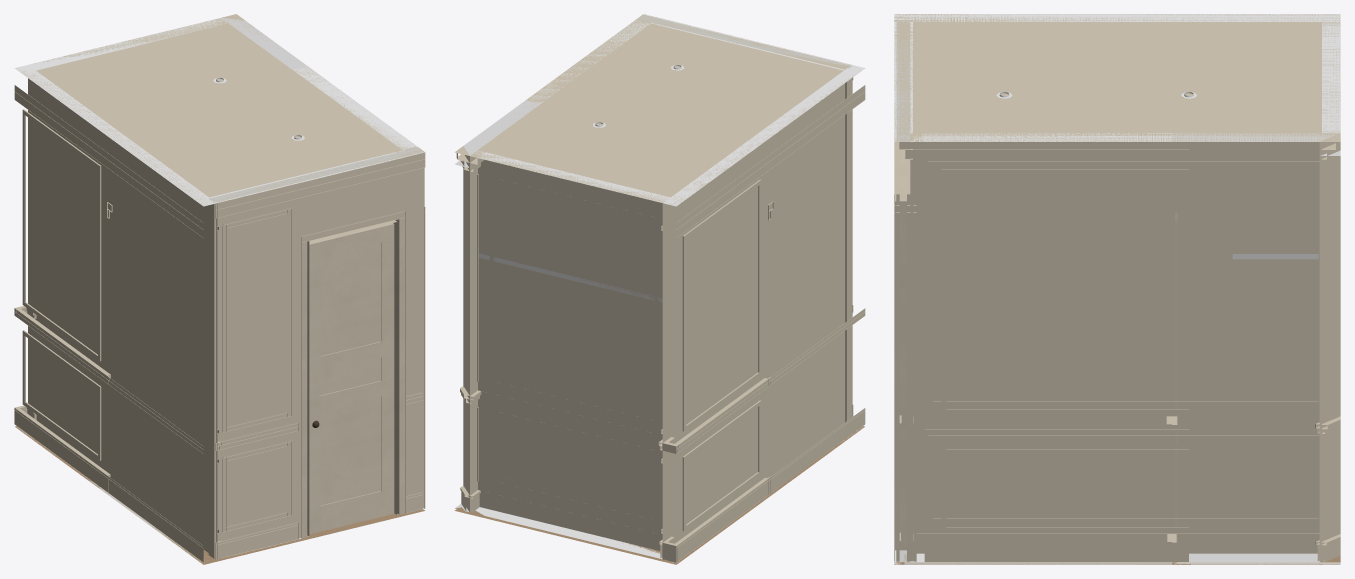
The model's file is loli-closet-9c163ea7b49b.glb.
3 renders of one model, left to right at view 1: azimuth 30°, elevation 25°; view 2: azimuth 150°, elevation 25°; view 3: azimuth 270°, elevation 25°, orthographic. The views are drawn at different scales.
Parts seen in each view (by area): view 1: loli-closet-6a1144f4e43410bb, loli-closet-0e637d2be41161fb, loli-closet-2575515a05775d9e, loli-closet-5b37b110dc0e2cdc, loli-closet-d6b1bc8c737b28e2, loli-closet-e1ae12ec9cba52a2, loli-closet-609bc1027670cc96, loli-closet-2c29ddcb8551cb02, loli-closet-e54d813e60c9e7c4, loli-closet-8c325fd3303e2546, loli-closet-cff4566edbc5d5ad, loli-closet-9d632b693d1b5808 (+16 smaller); view 2: loli-closet-e1ae12ec9cba52a2, loli-closet-6a1144f4e43410bb, loli-closet-2575515a05775d9e, loli-closet-0e637d2be41161fb, loli-closet-23704d6ebb398f63, loli-closet-1c7325212038a6e7, loli-closet-2c29ddcb8551cb02, loli-closet-2b5f31416122ed8c, loli-closet-e54d813e60c9e7c4, loli-closet-cff4566edbc5d5ad, loli-closet-93faa3d32bde4dc4, loli-closet-cc15fd6f291c811e (+10 smaller); view 3: loli-closet-03bdd0165789d12b, loli-closet-1c7325212038a6e7, loli-closet-2575515a05775d9e, loli-closet-1bcbe5547b2cfbdc, loli-closet-92c333610bf7beb4, loli-closet-a8b6749dbb482e83, loli-closet-b6646e2e222b858d, loli-closet-aaf71131b60d1226, loli-closet-0b1205313859304a, loli-closet-b000e8b10159de15, loli-closet-6a1144f4e43410bb, loli-closet-d6b1bc8c737b28e2 (+12 smaller).
Part boxes in pixels (x1,y1,x2,y2): loli-closet-6a1144f4e43410bb: [15, 65, 215, 562]; loli-closet-0e637d2be41161fb: [208, 146, 424, 559]; loli-closet-2575515a05775d9e: [16, 14, 424, 205]; loli-closet-5b37b110dc0e2cdc: [309, 223, 394, 534]; loli-closet-d6b1bc8c737b28e2: [302, 218, 404, 538]; loli-closet-e1ae12ec9cba52a2: [28, 18, 226, 408]; loli-closet-609bc1027670cc96: [215, 152, 425, 218]; loli-closet-2c29ddcb8551cb02: [14, 408, 203, 562]; loli-closet-e54d813e60c9e7c4: [14, 85, 203, 237]; loli-closet-8c325fd3303e2546: [222, 209, 291, 432]; loli-closet-cff4566edbc5d5ad: [22, 109, 101, 361]; loli-closet-9d632b693d1b5808: [307, 219, 398, 536]; loli-closet-e1ae12ec9cba52a2: [470, 151, 670, 558]; loli-closet-6a1144f4e43410bb: [662, 65, 864, 543]; loli-closet-2575515a05775d9e: [455, 14, 864, 205]; loli-closet-0e637d2be41161fb: [637, 14, 852, 422]; loli-closet-23704d6ebb398f63: [490, 177, 658, 425]; loli-closet-1c7325212038a6e7: [463, 100, 540, 511]; loli-closet-2c29ddcb8551cb02: [676, 408, 865, 562]; loli-closet-2b5f31416122ed8c: [479, 491, 662, 550]; loli-closet-e54d813e60c9e7c4: [676, 85, 865, 237]; loli-closet-cff4566edbc5d5ad: [682, 179, 761, 431]; loli-closet-93faa3d32bde4dc4: [490, 410, 658, 524]; loli-closet-cc15fd6f291c811e: [470, 24, 655, 171]; loli-closet-03bdd0165789d12b: [913, 133, 1172, 562]; loli-closet-1c7325212038a6e7: [1172, 133, 1340, 562]; loli-closet-2575515a05775d9e: [894, 14, 1340, 141]; loli-closet-1bcbe5547b2cfbdc: [924, 542, 1188, 562]; loli-closet-92c333610bf7beb4: [928, 161, 1319, 405]; loli-closet-a8b6749dbb482e83: [916, 533, 1319, 553]; loli-closet-b6646e2e222b858d: [928, 435, 1319, 523]; loli-closet-aaf71131b60d1226: [913, 141, 1188, 159]; loli-closet-0b1205313859304a: [941, 169, 1188, 414]; loli-closet-b000e8b10159de15: [916, 416, 1319, 425]; loli-closet-6a1144f4e43410bb: [894, 14, 1340, 21]; loli-closet-d6b1bc8c737b28e2: [895, 142, 906, 550].
Bounding box in the file's own units: 1.95 × 3.03 × 2.88.
17 materials, 3 textured.
